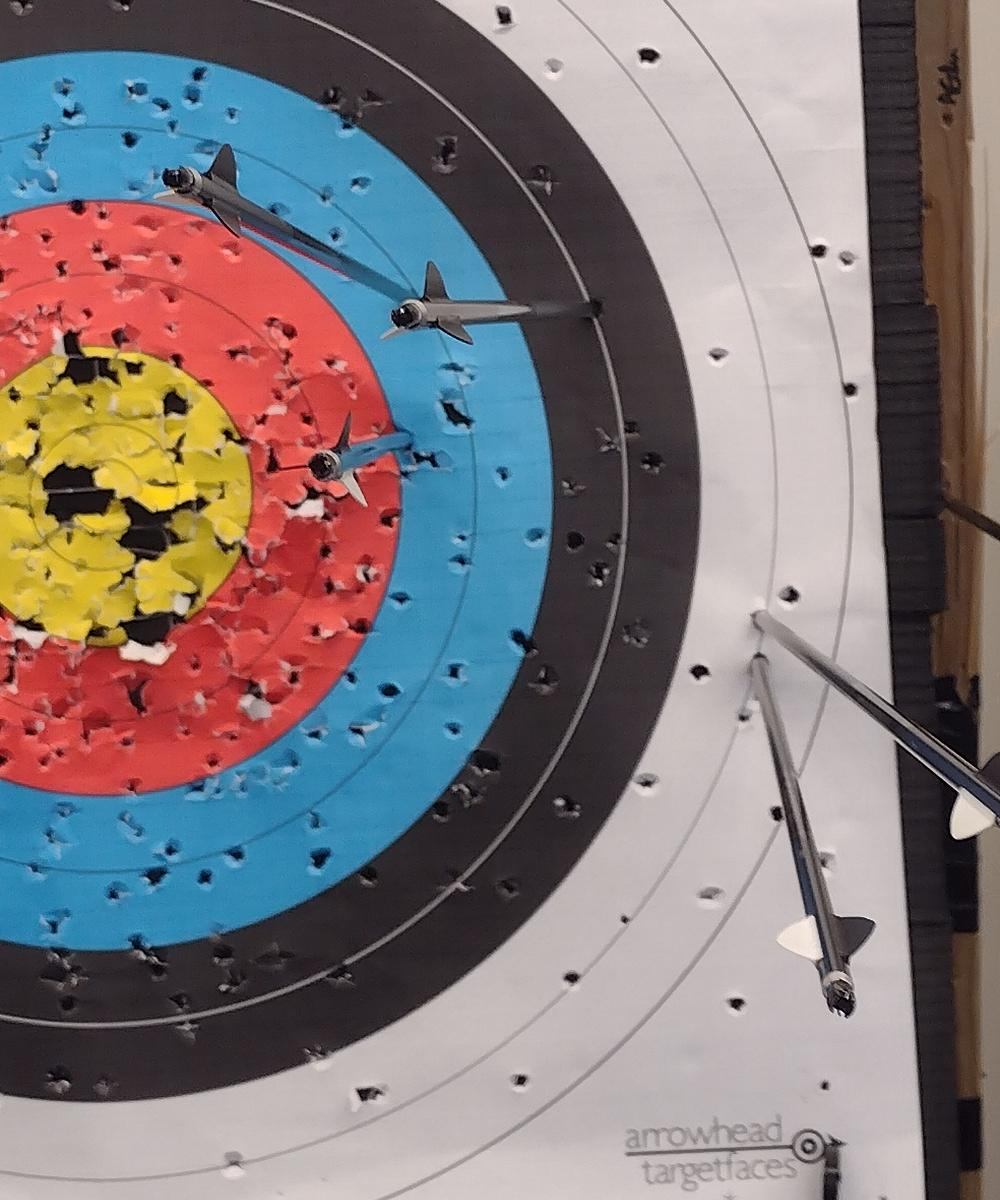10-Ring: (29, 423, 179, 570)
5-Ring: (0, 47, 553, 952)
6-Ring: (0, 125, 473, 872)
7-Ring: (0, 205, 399, 796)
8-Ring: (0, 275, 323, 720)
9-Ring: (0, 346, 254, 647)
Arrow: (675, 655, 904, 1032), (151, 124, 362, 276), (382, 261, 596, 344), (278, 394, 412, 513)
